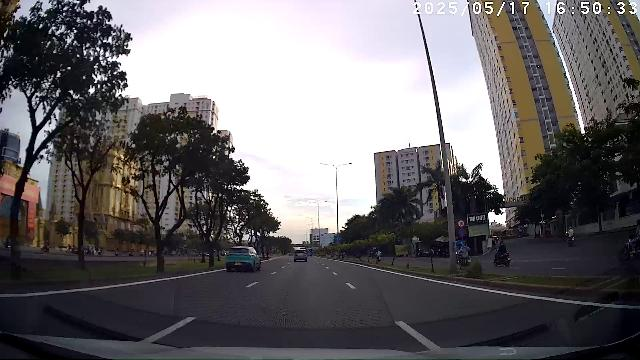127-toc-do-toi-da-60: (457, 220, 465, 228)
